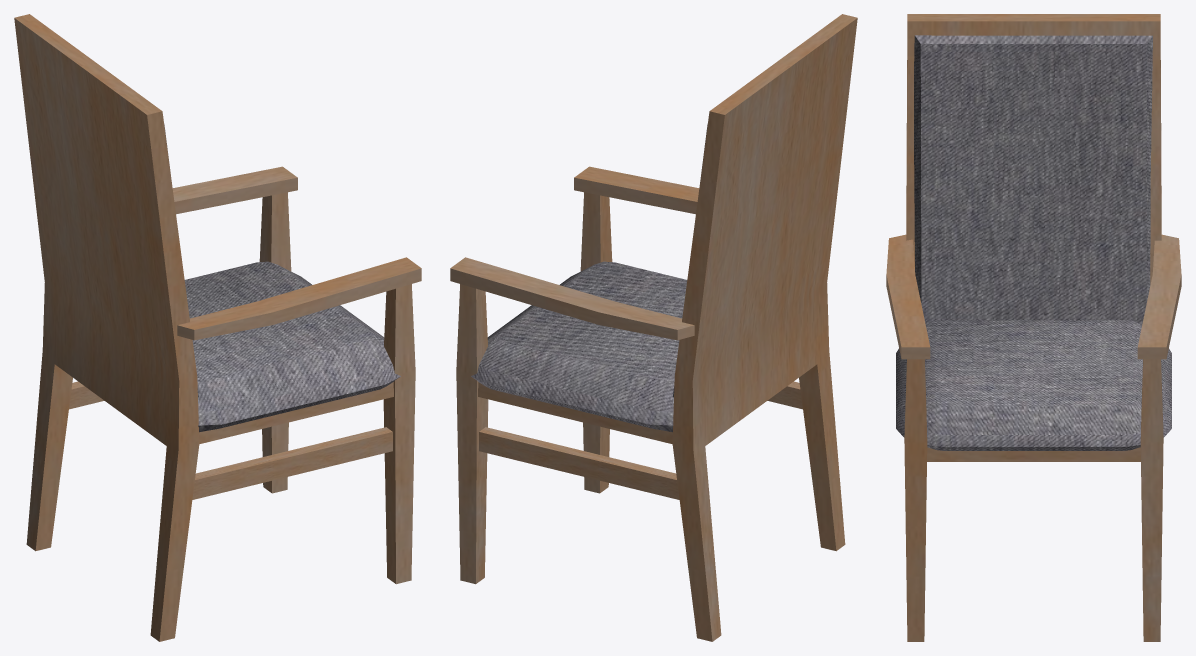
The model's file is Chair-col.glb.
3 views of the same model, side by side, from view 1: azimuth 30°, elevation 25°; view 2: azimuth 150°, elevation 25°; view 3: azimuth 270°, elevation 25° (orthographic). The views are drawn at different scales.
Parts seen in each view (by area): view 1: Chair-col; view 2: Chair-col; view 3: Chair-col.
Boxes of the visible parts, left/top/right/bottom form: Chair-col: left=14, top=14, right=421, bottom=641; Chair-col: left=450, top=14, right=857, bottom=641; Chair-col: left=886, top=14, right=1181, bottom=641.
Size of the model in its own units: 0.6543 by 1.22 by 0.6462.
2 materials, 2 textured.
